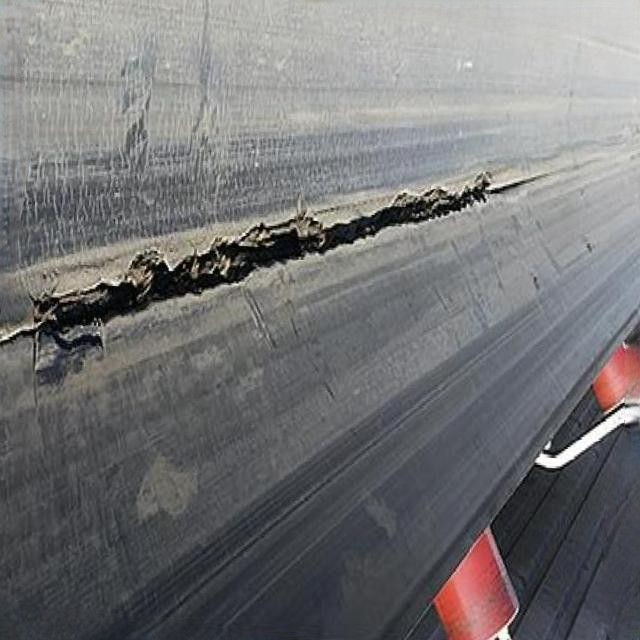Tear: (0, 171, 547, 356)
